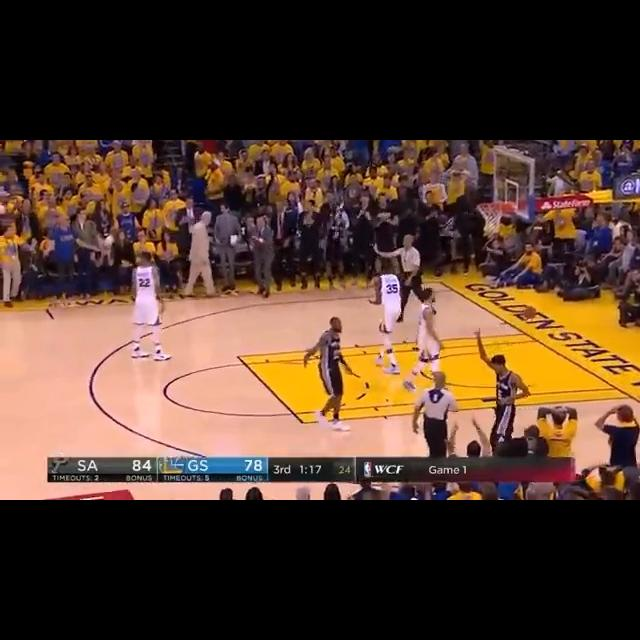hoop: (474, 200, 508, 238)
